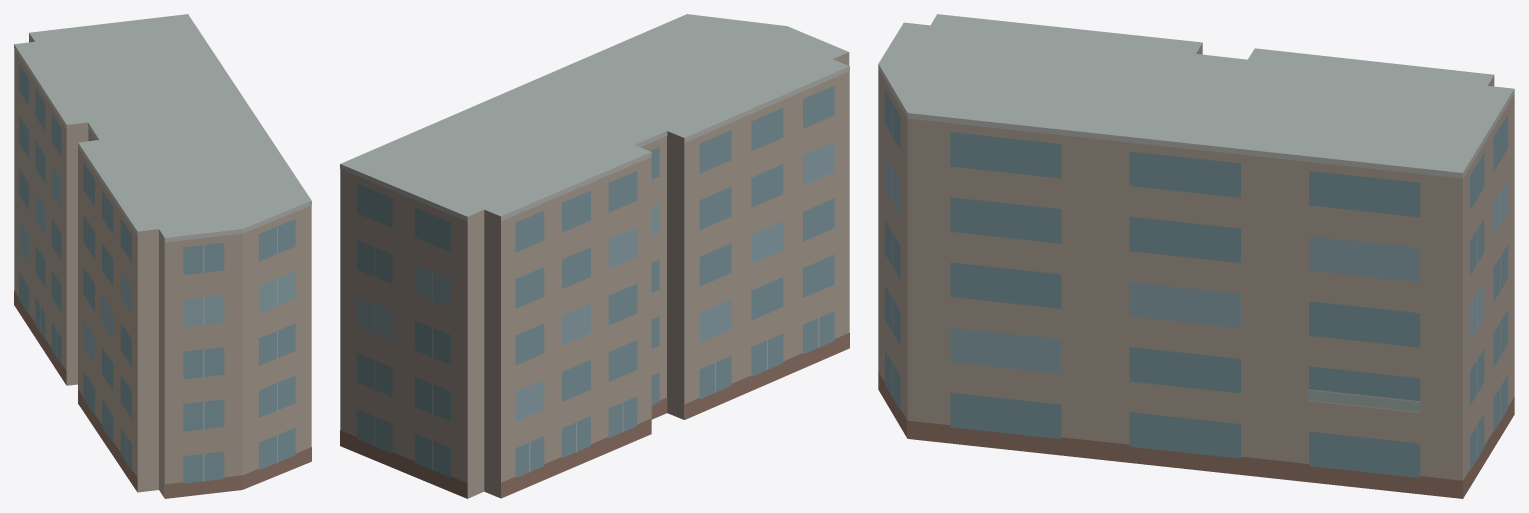
Rendered from survey-upis-33026506.glb.
The picture shows the model from 3 angles, left to right: view 1: azimuth 30°, elevation 25°; view 2: azimuth 150°, elevation 25°; view 3: azimuth 270°, elevation 25°; orthographic projection. The views are drawn at different scales.
Parts seen in each view (by area): view 1: survey-upis-33026506.tmp; view 2: survey-upis-33026506.tmp; view 3: survey-upis-33026506.tmp.
Part boxes in pixels (x1,y1,x2,y2): survey-upis-33026506.tmp: [14, 14, 311, 498]; survey-upis-33026506.tmp: [340, 14, 849, 498]; survey-upis-33026506.tmp: [878, 14, 1514, 498].
Size of the model in its own units: 14.82 by 14.15 by 25.05.
